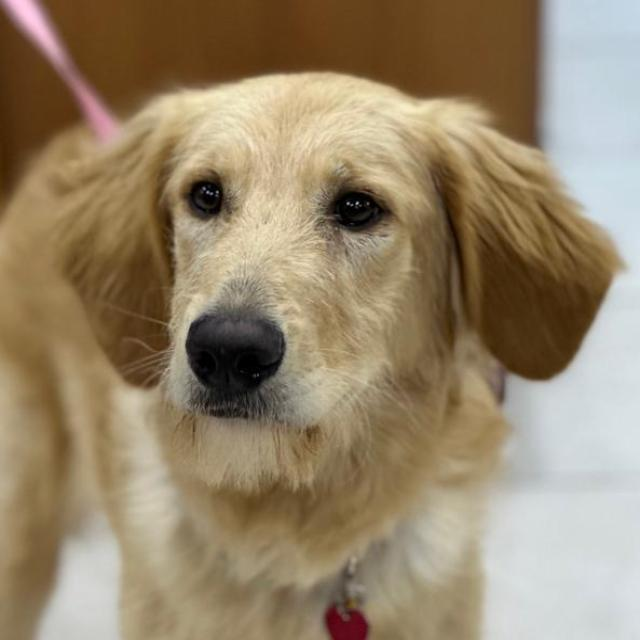golden_retriever_dog: (41, 62, 625, 513)
